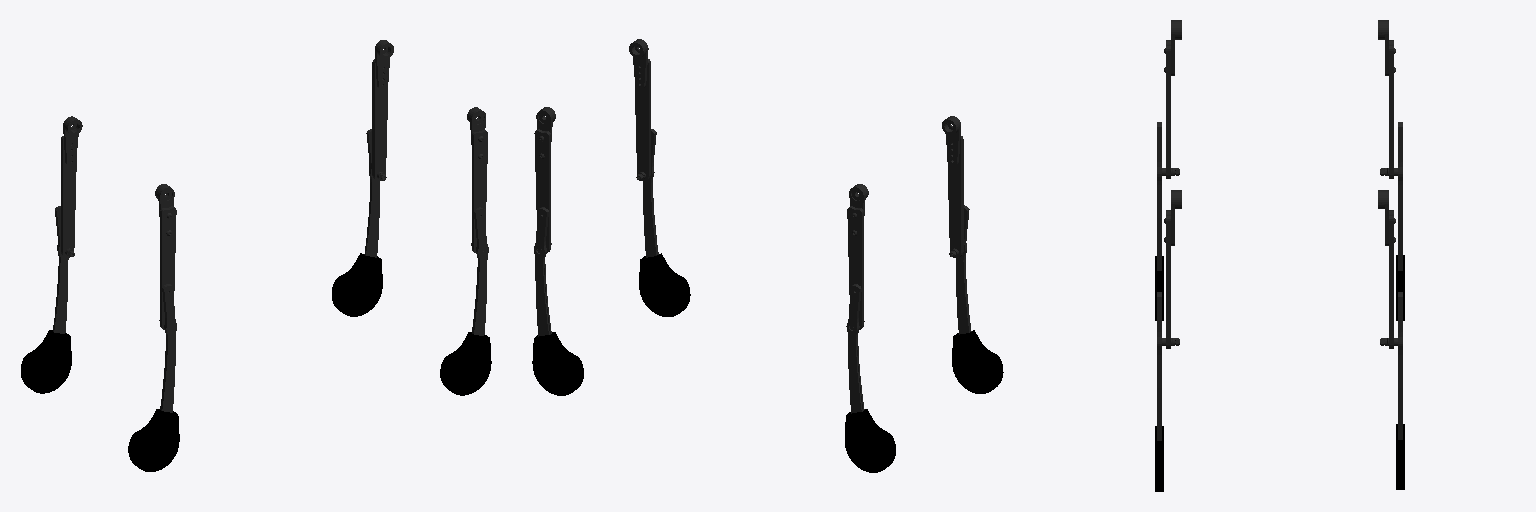
--- Render facts (derived) ---
3 views of the same robot in one strip: view 1: azimuth 30°, elevation 25°; view 2: azimuth 150°, elevation 25°; view 3: azimuth 270°, elevation 25° (orthographic).
Robot: witdog — 19 links, 18 joints (12 revolute, 6 fixed); root link base_link; default pose: all joints at 0.
Visible links, largest first — view 1: lf_foot, rf_foot, rh_foot, lh_foot, lf_2, lh_2, rh_2, rf_2, rh_3, rf_3, lh_3, lf_3; view 2: rf_foot, lf_foot, lh_foot, rh_foot, rh_2, rf_2, lh_2, lf_2, lf_3, lh_3, rf_3, rh_3; view 3: lh_2, rh_2, lf_2, rf_2, rf_3, lh_3, rh_3, lf_3.
Link boxes in pixels (x1,y1,x2,y2): lf_foot: [332, 253, 382, 316]; rf_foot: [440, 332, 491, 395]; rh_foot: [128, 409, 179, 471]; lh_foot: [21, 330, 71, 393]; lf_2: [372, 40, 393, 180]; lh_2: [61, 116, 82, 257]; rh_2: [155, 184, 176, 329]; rf_2: [467, 107, 487, 253]; rh_3: [160, 284, 176, 412]; rf_3: [472, 207, 488, 335]; lh_3: [53, 206, 68, 333]; lf_3: [364, 129, 379, 257]; rf_foot: [639, 253, 690, 316]; lf_foot: [532, 332, 583, 395]; lh_foot: [845, 409, 895, 472]; rh_foot: [952, 330, 1003, 393]; rh_2: [942, 116, 963, 257]; rf_2: [629, 39, 650, 180]; lh_2: [847, 184, 868, 329]; lf_2: [534, 107, 555, 253]; lf_3: [534, 207, 551, 336]; lh_3: [846, 284, 864, 413]; rf_3: [643, 129, 658, 257]; rh_3: [956, 205, 971, 334]; lh_2: [1378, 20, 1397, 178]; rh_2: [1162, 20, 1181, 178]; lf_2: [1378, 190, 1397, 348]; rf_2: [1162, 190, 1181, 348]; rf_3: [1157, 292, 1161, 440]; lh_3: [1398, 122, 1402, 270]; rh_3: [1157, 122, 1161, 270]; lf_3: [1398, 292, 1402, 439].
Size in the robot's own frame: 0.1961 by 0.1048 by 0.1424 metres.
Meshes: 17 distinct files referenced, 12 mesh visuals loaded (12 binary STL); not drawn: 5 (reference not matched to a file when rendering).

The robot description file, URDF, robot "witdog":
<?xml version="1.0" encoding="utf-8"?>
<!-- =================================================================================== -->
<!-- |    This document was autogenerated by xacro from witdog.xacro                   | -->
<!-- |    EDITING THIS FILE BY HAND IS NOT RECOMMENDED                                 | -->
<!-- =================================================================================== -->
<robot name="witdog">
  <material name="black">
    <color rgba="0.0 0.0 0.0 1.0"/>
  </material>
  <material name="blue">
    <color rgba="0.0 0.0 0.8 1.0"/>
  </material>
  <material name="green">
    <color rgba="0.0 0.8 0.0 1.0"/>
  </material>
  <material name="grey">
    <color rgba="0.2 0.2 0.2 1.0"/>
  </material>
  <material name="silver">
    <color rgba="0.9137254901960784 0.9137254901960784 0.8470588235294118 1.0"/>
  </material>
  <material name="orange">
    <color rgba="1.0 0.4235294117647059 0.0392156862745098 1.0"/>
  </material>
  <material name="brown">
    <color rgba="0.8705882352941177 0.8117647058823529 0.7647058823529411 1.0"/>
  </material>
  <material name="red">
    <color rgba="0.8 0.0 0.0 1.0"/>
  </material>
  <material name="white">
    <color rgba="1.0 1.0 1.0 1.0"/>
  </material>
  <link name="base_link">
    <visual>
      <origin rpy="0 0 0" xyz="0 0 0"/>
      <geometry>
        <mesh filename="package://witdog_description/meshes/base_link.STL"/>
      </geometry>
      <material name="black"/>
    </visual>
    <collision>
      <origin rpy="0 0 0" xyz="0 0 0"/>
      <geometry>
        <mesh filename="package://witdog_description/meshes/base_link.STL"/>
      </geometry>
    </collision>
  </link>
  <link name="inertia_link">
    <inertial>
      <origin rpy="0 0 0" xyz="0.0064015 0.0001745 -0.0022995"/>
      <mass value="0.6"/>
      <inertia ixx="0.00013785" ixy="-5.3961E-10" ixz="6.5926E-07" iyy="0.00075341" iyz="-4.7116E-09" izz="0.00085245"/>
    </inertial>
  </link>
  <joint name="to_inertia" type="fixed">
    <parent link="base_link"/>
    <child link="inertia_link"/>
    <origin rpy="0 0 0" xyz="0 0 0"/>
  </joint>
  <link name="lf_1">
    <inertial>
      <origin rpy="0 0 0" xyz="2.62515944628658E-05 0.0150369804172996 9.51730990358252E-06"/>
      <mass value="0.3"/>
      <inertia ixx="0.000485416666667" ixy="0.0" ixz="0.0" iyy="0.000613416666667" iyz="0.0" izz="0.000394666666667"/>
    </inertial>
    <visual>
      <origin rpy="0 0 0" xyz="0 0 0"/>
      <geometry>
        <mesh filename="package://witdog_description/meshes/lf_1.STL"/>
      </geometry>
      <material name="grey"/>
    </visual>
    <collision>
      <origin rpy="0 0 0" xyz="0 0 0"/>
      <geometry>
        <mesh filename="package://witdog_description/meshes/lf_1.STL"/>
      </geometry>
    </collision>
  </link>
  <joint name="to_lf1" type="revolute">
    <origin rpy="0 0 0" xyz="0.08652 0.028001 -0.005647"/>
    <parent link="base_link"/>
    <child link="lf_1"/>
    <axis xyz="1 0 0"/>
    <limit effort="5" lower="-3.14" upper="3.14" velocity="1.5"/>
  </joint>
  <link name="lf_2">
    <inertial>
      <origin rpy="0 0 0" xyz="-0.000216886891406632 0.00185556616401127 -0.0157060881233216"/>
      <mass value="0.13"/>
      <inertia ixx="0.0003873984375" ixy="0.0" ixz="0.0" iyy="0.000404065104167" iyz="0.0" izz="3.54166666667e-05"/>
    </inertial>
    <visual>
      <origin rpy="0 0 0" xyz="0 0 0"/>
      <geometry>
        <mesh filename="package://witdog_description/meshes/lf_2.STL"/>
      </geometry>
      <material name="grey"/>
    </visual>
    <collision>
      <origin rpy="0 0 0" xyz="0 0 0"/>
      <geometry>
        <mesh filename="package://witdog_description/meshes/lf_2.STL"/>
      </geometry>
    </collision>
  </link>
  <joint name="to_lf2" type="revolute">
    <origin rpy="0 0 0" xyz="-0.0057834 0.014959 0.00061935"/>
    <parent link="lf_1"/>
    <child link="lf_2"/>
    <axis xyz="0 1 0"/>
    <limit effort="5" lower="-3.14" upper="3.14" velocity="1.5"/>
  </joint>
  <link name="lf_3">
    <inertial>
      <origin rpy="0 0 0" xyz="-0.00207589878248646 -0.000650514564911272 -0.0275149145142826"/>
      <mass value="0.063"/>
      <inertia ixx="0.000258541666667" ixy="0.0" ixz="0.0" iyy="0.00026934375" iyz="0.0" izz="2.08854166667e-05"/>
    </inertial>
    <visual>
      <origin rpy="0 0 0" xyz="0 0 0"/>
      <geometry>
        <mesh filename="package://witdog_description/meshes/lf_3.STL"/>
      </geometry>
      <material name="grey"/>
    </visual>
    <collision>
      <origin rpy="0 0 0" xyz="0 0 0"/>
      <geometry>
        <mesh filename="package://witdog_description/meshes/lf_3.STL"/>
      </geometry>
    </collision>
  </link>
  <joint name="to_lf3" type="revolute">
    <origin rpy="0 0 0" xyz="-0.00091985 0.0079405 -0.066613"/>
    <parent link="lf_2"/>
    <child link="lf_3"/>
    <axis xyz="0 1 0"/>
    <limit effort="5" lower="-3.14" upper="3.14" velocity="1.5"/>
  </joint>
  <link name="lf_foot">
    <inertial>
      <origin rpy="0 0 0" xyz="0.000733010852343454 -0.00200000000000003 0.000667379574654542"/>
      <mass value="0.063"/>
      <inertia ixx="9.6355662245681E-08" ixy="-9.37574254460232E-23" ixz="-1.49911815454567E-08" iyy="1.84243192364973E-07" iyz="-6.25861926332428E-23" izz="9.362840682092E-08"/>
    </inertial>
    <visual>
      <origin rpy="0 0 0" xyz="0 0 0"/>
      <geometry>
        <mesh filename="package://witdog_description/meshes/lf_foot.STL"/>
      </geometry>
      <material name="black"/>
    </visual>
    <collision>
      <origin rpy="0 0 0" xyz="0 0 0"/>
      <geometry>
        <mesh filename="package://witdog_description/meshes/lf_foot.STL"/>
      </geometry>
    </collision>
  </link>
  <joint name="to_lffoot" type="fixed">
    <origin rpy="0 0 0" xyz="-0.0098189 0.0015 -0.059121"/>
    <parent link="lf_3"/>
    <child link="lf_foot"/>
    <axis xyz="0 0 0"/>
  </joint>
  <transmission name="to_lf1_trans">
    <type>transmission_interface/SimpleTransmission</type>
    <joint name="to_lf1">
      <hardwareInterface>hardware_interface/EffortJointInterface</hardwareInterface>
    </joint>
    <actuator name="to_lf1_motor">
      <hardwareInterface>hardware_interface/EffortJointInterface</hardwareInterface>
      <mechanicalReduction>1</mechanicalReduction>
    </actuator>
  </transmission>
  <transmission name="to_lf2_trans">
    <type>transmission_interface/SimpleTransmission</type>
    <joint name="to_lf2">
      <hardwareInterface>hardware_interface/EffortJointInterface</hardwareInterface>
    </joint>
    <actuator name="to_lf2_motor">
      <hardwareInterface>hardware_interface/EffortJointInterface</hardwareInterface>
      <mechanicalReduction>1</mechanicalReduction>
    </actuator>
  </transmission>
  <transmission name="to_lf3_trans">
    <type>transmission_interface/SimpleTransmission</type>
    <joint name="to_lf3">
      <hardwareInterface>hardware_interface/EffortJointInterface</hardwareInterface>
    </joint>
    <actuator name="to_lf3_motor">
      <hardwareInterface>hardware_interface/EffortJointInterface</hardwareInterface>
      <mechanicalReduction>1</mechanicalReduction>
    </actuator>
  </transmission>
  <link name="rf_1">
    <inertial>
      <origin rpy="0 0 0" xyz="-2.3349E-05 -0.014987 5.2286E-06"/>
      <mass value="0.3"/>
      <inertia ixx="0.000485416666667" ixy="0.0" ixz="0.0" iyy="0.000613416666667" iyz="0.0" izz="0.000394666666667"/>
    </inertial>
    <visual>
      <origin rpy="0 0 0" xyz="0 0 0"/>
      <geometry>
        <mesh filename="package://witdog_description/meshes/rf_1.STL"/>
      </geometry>
      <material name="grey"/>
    </visual>
    <collision>
      <origin rpy="0 0 0" xyz="0 0 0"/>
      <geometry>
        <mesh filename="package://witdog_description/meshes/rf_1.STL"/>
      </geometry>
    </collision>
  </link>
  <joint name="to_rf1" type="revolute">
    <origin rpy="0 0 0" xyz="0.08652 -0.028 -0.005647"/>
    <parent link="base_link"/>
    <child link="rf_1"/>
    <axis xyz="1 0 0"/>
    <limit effort="5" lower="-3.14" upper="3.14" velocity="1.5"/>
  </joint>
  <link name="rf_2">
    <inertial>
      <origin rpy="0 0 0" xyz="-0.000216884414840048 -0.0018570506821472 -0.0157060845364545"/>
      <mass value="0.13"/>
      <inertia ixx="0.0003873984375" ixy="0.0" ixz="0.0" iyy="0.000404065104167" iyz="0.0" izz="3.54166666667e-05"/>
    </inertial>
    <visual>
      <origin rpy="0 0 0" xyz="0 0 0"/>
      <geometry>
        <mesh filename="package://witdog_description/meshes/rf_2.STL"/>
      </geometry>
      <material name="grey"/>
    </visual>
    <collision>
      <origin rpy="0 0 0" xyz="0 0 0"/>
      <geometry>
        <mesh filename="package://witdog_description/meshes/rf_2.STL"/>
      </geometry>
    </collision>
  </link>
  <joint name="to_rf2" type="revolute">
    <origin rpy="0 0 0" xyz="-0.0057834 -0.014959 0.00061935"/>
    <parent link="rf_1"/>
    <child link="rf_2"/>
    <axis xyz="0 1 0"/>
    <limit effort="5" lower="-3.14" upper="3.14" velocity="1.5"/>
  </joint>
  <link name="rf_3">
    <inertial>
      <origin rpy="0 0 0" xyz="-0.00216416743732465 0.000904314415320434 -0.0285792043747879"/>
      <mass value="0.063"/>
      <inertia ixx="0.000258541666667" ixy="0.0" ixz="0.0" iyy="0.00026934375" iyz="0.0" izz="2.08854166667e-05"/>
    </inertial>
    <visual>
      <origin rpy="0 0 0" xyz="0 0 0"/>
      <geometry>
        <mesh filename="package://witdog_description/meshes/rf_3.STL"/>
      </geometry>
      <material name="grey"/>
    </visual>
    <collision>
      <origin rpy="0 0 0" xyz="0 0 0"/>
      <geometry>
        <mesh filename="package://witdog_description/meshes/rf_3.STL"/>
      </geometry>
    </collision>
  </link>
  <joint name="to_rf3" type="revolute">
    <origin rpy="0 0 0" xyz="-0.000919872443398681 -0.00834054054053998 -0.0666128977412097"/>
    <parent link="rf_2"/>
    <child link="rf_3"/>
    <axis xyz="0 1 0"/>
    <limit effort="5" lower="-3.14" upper="3.14" velocity="1.5"/>
  </joint>
  <link name="rf_foot">
    <inertial>
      <origin rpy="0 0 0" xyz="0.000733010852419357 0.002 0.000667379574624372"/>
      <mass value="0.063"/>
      <inertia ixx="9.6355662245681E-08" ixy="6.61616672491364E-23" ixz="-1.49911815454568E-08" iyy="1.84243192364973E-07" iyz="1.65831138249206E-22" izz="9.36284068209202E-08"/>
    </inertial>
    <visual>
      <origin rpy="0 0 0" xyz="0 0 0"/>
      <geometry>
        <mesh filename="package://witdog_description/meshes/rf_foot.STL"/>
      </geometry>
      <material name="black"/>
    </visual>
    <collision>
      <origin rpy="0 0 0" xyz="0 0 0"/>
      <geometry>
        <mesh filename="package://witdog_description/meshes/rf_foot.STL"/>
      </geometry>
    </collision>
  </link>
  <joint name="to_rffoot" type="fixed">
    <origin rpy="0 0 0" xyz="-0.0091444 -0.0010914 -0.05939"/>
    <parent link="rf_3"/>
    <child link="rf_foot"/>
    <axis xyz="0 0 0"/>
  </joint>
  <transmission name="to_rf1_trans">
    <type>transmission_interface/SimpleTransmission</type>
    <joint name="to_rf1">
      <hardwareInterface>hardware_interface/EffortJointInterface</hardwareInterface>
    </joint>
    <actuator name="to_rf1_motor">
      <hardwareInterface>hardware_interface/EffortJointInterface</hardwareInterface>
      <mechanicalReduction>1</mechanicalReduction>
    </actuator>
  </transmission>
  <transmission name="to_rf2_trans">
    <type>transmission_interface/SimpleTransmission</type>
    <joint name="to_rf2">
      <hardwareInterface>hardware_interface/EffortJointInterface</hardwareInterface>
    </joint>
    <actuator name="to_rf2_motor">
      <hardwareInterface>hardware_interface/EffortJointInterface</hardwareInterface>
      <mechanicalReduction>1</mechanicalReduction>
    </actuator>
  </transmission>
  <transmission name="to_rf3_trans">
    <type>transmission_interface/SimpleTransmission</type>
    <joint name="to_rf3">
      <hardwareInterface>hardware_interface/EffortJointInterface</hardwareInterface>
    </joint>
    <actuator name="to_rf3_motor">
      <hardwareInterface>hardware_interface/EffortJointInterface</hardwareInterface>
      <mechanicalReduction>1</mechanicalReduction>
    </actuator>
  </transmission>
  <link name="lh_1">
    <inertial>
      <origin rpy="0 0 0" xyz="-6.03000272297871E-06 0.015008835867718 9.49343399942945E-06"/>
      <mass value="0.3"/>
      <inertia ixx="0.000485416666667" ixy="0.0" ixz="0.0" iyy="0.000613416666667" iyz="0.0" izz="0.000394666666667"/>
    </inertial>
    <visual>
      <origin rpy="0 0 0" xyz="0 0 0"/>
      <geometry>
        <mesh filename="package://witdog_description/meshes/lh_1.STL"/>
      </geometry>
      <material name="grey"/>
    </visual>
    <collision>
      <origin rpy="0 0 0" xyz="0 0 0"/>
      <geometry>
        <mesh filename="package://witdog_description/meshes/lh_1.STL"/>
      </geometry>
    </collision>
  </link>
  <joint name="to_lh1" type="revolute">
    <origin rpy="0 0 0" xyz="-0.08248 0.028001 -0.005937"/>
    <parent link="base_link"/>
    <child link="lh_1"/>
    <axis xyz="1 0 0"/>
    <limit effort="5" lower="-3.14" upper="3.14" velocity="1.5"/>
  </joint>
  <link name="lh_2">
    <inertial>
      <origin rpy="0 0 0" xyz="-0.000216886891503815 0.00185556616399846 -0.0157060881233222"/>
      <mass value="0.13"/>
      <inertia ixx="0.0003873984375" ixy="0.0" ixz="0.0" iyy="0.000404065104167" iyz="0.0" izz="3.54166666667e-05"/>
    </inertial>
    <visual>
      <origin rpy="0 0 0" xyz="0 0 0"/>
      <geometry>
        <mesh filename="package://witdog_description/meshes/lh_2.STL"/>
      </geometry>
      <material name="grey"/>
    </visual>
    <collision>
      <origin rpy="0 0 0" xyz="0 0 0"/>
      <geometry>
        <mesh filename="package://witdog_description/meshes/lh_2.STL"/>
      </geometry>
    </collision>
  </link>
  <joint name="to_lh2" type="revolute">
    <origin rpy="0 0 0" xyz="-0.00578344744545112 0.0149594594594723 0.000619354785077068"/>
    <parent link="lh_1"/>
    <child link="lh_2"/>
    <axis xyz="0 1 0"/>
    <limit effort="5" lower="-3.14" upper="3.14" velocity="1.5"/>
  </joint>
  <link name="lh_3">
    <inertial>
      <origin rpy="0 0 0" xyz="-0.00207589878256928 -0.000650514564957339 -0.0275149145142762"/>
      <mass value="0.063"/>
      <inertia ixx="0.000258541666667" ixy="0.0" ixz="0.0" iyy="0.00026934375" iyz="0.0" izz="2.08854166667e-05"/>
    </inertial>
    <visual>
      <origin rpy="0 0 0" xyz="0 0 0"/>
      <geometry>
        <mesh filename="package://witdog_description/meshes/lh_3.STL"/>
      </geometry>
      <material name="grey"/>
    </visual>
    <collision>
      <origin rpy="0 0 0" xyz="0 0 0"/>
      <geometry>
        <mesh filename="package://witdog_description/meshes/lh_3.STL"/>
      </geometry>
    </collision>
  </link>
  <joint name="to_lh3" type="revolute">
    <origin rpy="0 0 0" xyz="-0.000919847336912388 0.00794054054057377 -0.0666130631353466"/>
    <parent link="lh_2"/>
    <child link="lh_3"/>
    <axis xyz="0 1 0"/>
    <limit effort="5" lower="-3.14" upper="3.14" velocity="1.5"/>
  </joint>
  <link name="lh_foot">
    <inertial>
      <origin rpy="0 0 0" xyz="0.000733010852452171 -0.002 0.000667379574611299"/>
      <mass value="0.063"/>
      <inertia ixx="9.63556622456806E-08" ixy="1.61006081338392E-23" ixz="-1.49911815454567E-08" iyy="1.84243192364972E-07" iyz="-7.24514755910098E-23" izz="9.36284068209199E-08"/>
    </inertial>
    <visual>
      <origin rpy="0 0 0" xyz="0 0 0"/>
      <geometry>
        <mesh filename="package://witdog_description/meshes/lh_foot.STL"/>
      </geometry>
      <material name="black"/>
    </visual>
    <collision>
      <origin rpy="0 0 0" xyz="0 0 0"/>
      <geometry>
        <mesh filename="package://witdog_description/meshes/lh_foot.STL"/>
      </geometry>
    </collision>
  </link>
  <joint name="to_lhfoot" type="fixed">
    <origin rpy="0 0 0" xyz="-0.0094743 0.0015 -0.059258"/>
    <parent link="lh_3"/>
    <child link="lh_foot"/>
    <axis xyz="0 0 0"/>
  </joint>
  <transmission name="to_lh1_trans">
    <type>transmission_interface/SimpleTransmission</type>
    <joint name="to_lh1">
      <hardwareInterface>hardware_interface/EffortJointInterface</hardwareInterface>
    </joint>
    <actuator name="to_lh1_motor">
      <hardwareInterface>hardware_interface/EffortJointInterface</hardwareInterface>
      <mechanicalReduction>1</mechanicalReduction>
    </actuator>
  </transmission>
  <transmission name="to_lh2_trans">
    <type>transmission_interface/SimpleTransmission</type>
    <joint name="to_lh2">
      <hardwareInterface>hardware_interface/EffortJointInterface</hardwareInterface>
    </joint>
    <actuator name="to_lh2_motor">
      <hardwareInterface>hardware_interface/EffortJointInterface</hardwareInterface>
      <mechanicalReduction>1</mechanicalReduction>
    </actuator>
  </transmission>
  <transmission name="to_lh3_trans">
    <type>transmission_interface/SimpleTransmission</type>
    <joint name="to_lh3">
      <hardwareInterface>hardware_interface/EffortJointInterface</hardwareInterface>
    </joint>
    <actuator name="to_lh3_motor">
      <hardwareInterface>hardware_interface/EffortJointInterface</hardwareInterface>
      <mechanicalReduction>1</mechanicalReduction>
    </actuator>
  </transmission>
  <link name="rh_1">
    <inertial>
      <origin rpy="0 0 0" xyz="4.74891857588089E-07 -0.0150062500764912 4.58882703502361E-08"/>
      <mass value="0.3"/>
      <inertia ixx="0.000485416666667" ixy="0.0" ixz="0.0" iyy="0.000613416666667" iyz="0.0" izz="0.000394666666667"/>
    </inertial>
    <visual>
      <origin rpy="0 0 0" xyz="0 0 0"/>
      <geometry>
        <mesh filename="package://witdog_description/meshes/rh_1.STL"/>
      </geometry>
      <material name="grey"/>
    </visual>
    <collision>
      <origin rpy="0 0 0" xyz="0 0 0"/>
      <geometry>
        <mesh filename="package://witdog_description/meshes/rh_1.STL"/>
      </geometry>
    </collision>
  </link>
  <joint name="to_rh1" type="revolute">
    <origin rpy="0 0 0" xyz="-0.08248 -0.028 -0.005937"/>
    <parent link="base_link"/>
    <child link="rh_1"/>
    <axis xyz="1 0 0"/>
    <limit effort="5" lower="-3.14" upper="3.14" velocity="1.5"/>
  </joint>
  <link name="rh_2">
    <inertial>
      <origin rpy="0 0 0" xyz="-0.000216884414840024 -0.00185705068214734 -0.0157060845364545"/>
      <mass value="0.13"/>
      <inertia ixx="0.0003873984375" ixy="0.0" ixz="0.0" iyy="0.000404065104167" iyz="0.0" izz="3.54166666667e-05"/>
    </inertial>
    <visual>
      <origin rpy="0 0 0" xyz="0 0 0"/>
      <geometry>
        <mesh filename="package://witdog_description/meshes/rh_2.STL"/>
      </geometry>
      <material name="grey"/>
    </visual>
    <collision>
      <origin rpy="0 0 0" xyz="0 0 0"/>
      <geometry>
        <mesh filename="package://witdog_description/meshes/rh_2.STL"/>
      </geometry>
    </collision>
  </link>
  <joint name="to_rh2" type="revolute">
    <origin rpy="0 0 0" xyz="-0.00578344744554893 -0.0149594594594607 0.000619354785075757"/>
    <parent link="rh_1"/>
    <child link="rh_2"/>
    <axis xyz="0 1 0"/>
    <limit effort="5" lower="-3.14" upper="3.14" velocity="1.5"/>
  </joint>
  <link name="rh_3">
    <inertial>
      <origin rpy="0 0 0" xyz="-0.00216416743732464 0.000904314415320323 -0.0285792043747879"/>
      <mass value="0.063"/>
      <inertia ixx="0.000258541666667" ixy="0.0" ixz="0.0" iyy="0.00026934375" iyz="0.0" izz="2.08854166667e-05"/>
    </inertial>
    <visual>
      <origin rpy="0 0 0" xyz="0 0 0"/>
      <geometry>
        <mesh filename="package://witdog_description/meshes/rh_3.STL"/>
      </geometry>
      <material name="grey"/>
    </visual>
    <collision>
      <origin rpy="0 0 0" xyz="0 0 0"/>
      <geometry>
        <mesh filename="package://witdog_description/meshes/rh_3.STL"/>
      </geometry>
    </collision>
  </link>
  <joint name="to_rh3" type="revolute">
    <origin rpy="0 0 0" xyz="-0.000919872443398723 -0.00834054054054026 -0.0666128977412097"/>
    <parent link="rh_2"/>
    <child link="rh_3"/>
    <axis xyz="0 1 0"/>
    <limit effort="5" lower="-3.14" upper="3.14" velocity="1.5"/>
  </joint>
  <link name="rh_foot">
    <inertial>
      <origin rpy="0 0 0" xyz="0.000733010852420668 0.002 0.0006673795746239"/>
      <mass value="0.063"/>
      <inertia ixx="9.6355662245681E-08" ixy="1.0026239024509E-22" ixz="-1.49911815454567E-08" iyy="1.84243192364973E-07" iyz="1.52192774825146E-22" izz="9.36284068209202E-08"/>
    </inertial>
    <visual>
      <origin rpy="0 0 0" xyz="0 0 0"/>
      <geometry>
        <mesh filename="package://witdog_description/meshes/rh_foot.STL"/>
      </geometry>
      <material name="black"/>
    </visual>
    <collision>
      <origin rpy="0 0 0" xyz="0 0 0"/>
      <geometry>
        <mesh filename="package://witdog_description/meshes/rh_foot.STL"/>
      </geometry>
    </collision>
  </link>
  <joint name="to_rhfoot" type="fixed">
    <origin rpy="0 0 0" xyz="-0.0092382 -0.0010914 -0.059352"/>
    <parent link="rh_3"/>
    <child link="rh_foot"/>
    <axis xyz="0 0 0"/>
  </joint>
  <transmission name="to_rh1_trans">
    <type>transmission_interface/SimpleTransmission</type>
    <joint name="to_rh1">
      <hardwareInterface>hardware_interface/EffortJointInterface</hardwareInterface>
    </joint>
    <actuator name="to_rh1_motor">
      <hardwareInterface>hardware_interface/EffortJointInterface</hardwareInterface>
      <mechanicalReduction>1</mechanicalReduction>
    </actuator>
  </transmission>
  <transmission name="to_rh2_trans">
    <type>transmission_interface/SimpleTransmission</type>
    <joint name="to_rh2">
      <hardwareInterface>hardware_interface/EffortJointInterface</hardwareInterface>
    </joint>
    <actuator name="to_rh2_motor">
      <hardwareInterface>hardware_interface/EffortJointInterface</hardwareInterface>
      <mechanicalReduction>1</mechanicalReduction>
    </actuator>
  </transmission>
  <transmission name="to_rh3_trans">
    <type>transmission_interface/SimpleTransmission</type>
    <joint name="to_rh3">
      <hardwareInterface>hardware_interface/EffortJointInterface</hardwareInterface>
    </joint>
    <actuator name="to_rh3_motor">
      <hardwareInterface>hardware_interface/EffortJointInterface</hardwareInterface>
      <mechanicalReduction>1</mechanicalReduction>
    </actuator>
  </transmission>


  <gazebo reference="base_link">
    <material>Gazebo/FlatBlack</material>
  </gazebo>
  <gazebo reference="lf_1">
    <kp>1000000.0</kp>
    <kd>1.0</kd>
    <mu1>0.8</mu1>
    <mu2>0.8</mu2>
    <maxVel>0.0</maxVel>
    <minDepth>0.001</minDepth>
    <material>Gazebo/DarkGrey</material>
  </gazebo>
  <gazebo reference="lf_2">
    <kp>1000000.0</kp>
    <kd>1.0</kd>
    <mu1>0.8</mu1>
    <mu2>0.8</mu2>
    <maxVel>0.0</maxVel>
    <minDepth>0.001</minDepth>
    <material>Gazebo/DarkGrey</material>
  </gazebo>
  <gazebo reference="lf_3">
    <kp>1000000.0</kp>
    <kd>1.0</kd>
    <mu1>0.8</mu1>
    <mu2>0.8</mu2>
    <maxVel>0.0</maxVel>
    <minDepth>0.001</minDepth>
    <material>Gazebo/DarkGrey</material>
  </gazebo>
  <gazebo reference="lf_foot">
    <kp>1000000.0</kp>
    <kd>1.0</kd>
    <mu1>0.8</mu1>
    <mu2>0.8</mu2>
    <maxVel>0.0</maxVel>
    <minDepth>0.001</minDepth>
    <material>Gazebo/Black</material>
  </gazebo>
  <gazebo reference="rf_1">
    <kp>1000000.0</kp>
    <kd>1.0</kd>
    <mu1>0.8</mu1>
    <mu2>0.8</mu2>
    <maxVel>0.0</maxVel>
    <minDepth>0.001</minDepth>
    <material>Gazebo/DarkGrey</material>
  </gazebo>
  <gazebo reference="rf_2">
    <kp>1000000.0</kp>
    <kd>1.0</kd>
    <mu1>0.8</mu1>
    <mu2>0.8</mu2>
    <maxVel>0.0</maxVel>
    <minDepth>0.001</minDepth>
    <material>Gazebo/DarkGrey</material>
  </gazebo>
  <gazebo reference="rf_3">
    <kp>1000000.0</kp>
    <kd>1.0</kd>
    <mu1>0.8</mu1>
    <mu2>0.8</mu2>
    <maxVel>0.0</maxVel>
    <minDepth>0.001</minDepth>
    <material>Gazebo/DarkGrey</material>
  </gazebo>
  <gazebo reference="rf_foot">
    <kp>1000000.0</kp>
    <kd>1.0</kd>
    <mu1>0.8</mu1>
    <mu2>0.8</mu2>
    <maxVel>0.0</maxVel>
    <minDepth>0.001</minDepth>
    <material>Gazebo/Black</material>
  </gazebo>
  <gazebo reference="lh_1">
    <kp>1000000.0</kp>
    <kd>1.0</kd>
    <mu1>0.8</mu1>
    <mu2>0.8</mu2>
    <maxVel>0.0</maxVel>
    <minDepth>0.001</minDepth>
    <material>Gazebo/DarkGrey</material>
  </gazebo>
  <gazebo reference="lh_2">
    <kp>1000000.0</kp>
    <kd>1.0</kd>
    <mu1>0.8</mu1>
    <mu2>0.8</mu2>
    <maxVel>0.0</maxVel>
    <minDepth>0.001</minDepth>
    <material>Gazebo/DarkGrey</material>
  </gazebo>
  <gazebo reference="lh_3">
    <kp>1000000.0</kp>
    <kd>1.0</kd>
    <mu1>0.8</mu1>
    <mu2>0.8</mu2>
    <maxVel>0.0</maxVel>
    <minDepth>0.001</minDepth>
    <material>Gazebo/DarkGrey</material>
  </gazebo>
  <gazebo reference="lh_foot">
    <kp>1000000.0</kp>
    <kd>1.0</kd>
    <mu1>0.8</mu1>
    <mu2>0.8</mu2>
    <maxVel>0.0</maxVel>
    <minDepth>0.001</minDepth>
    <material>Gazebo/Black</material>
  </gazebo>
  <gazebo reference="rh_1">
    <kp>1000000.0</kp>
    <kd>1.0</kd>
    <mu1>0.8</mu1>
    <mu2>0.8</mu2>
    <maxVel>0.0</maxVel>
    <minDepth>0.001</minDepth>
    <material>Gazebo/DarkGrey</material>
  </gazebo>
  <gazebo reference="rh_2">
    <kp>1000000.0</kp>
    <kd>1.0</kd>
    <mu1>0.8</mu1>
    <mu2>0.8</mu2>
    <maxVel>0.0</maxVel>
    <minDepth>0.001</minDepth>
    <material>Gazebo/DarkGrey</material>
  </gazebo>
  <gazebo reference="rh_3">
    <kp>1000000.0</kp>
    <kd>1.0</kd>
    <mu1>0.8</mu1>
    <mu2>0.8</mu2>
    <maxVel>0.0</maxVel>
    <minDepth>0.001</minDepth>
    <material>Gazebo/DarkGrey</material>
  </gazebo>
  <gazebo reference="rh_foot">
    <kp>1000000.0</kp>
    <kd>1.0</kd>
    <mu1>0.8</mu1>
    <mu2>0.8</mu2>
    <maxVel>0.0</maxVel>
    <minDepth>0.001</minDepth>
    <material>Gazebo/Black</material>
  </gazebo>  

  <gazebo>
    <plugin filename="libgazebo_ros_p3d.so" name="p3d_base_controller">
      <alwaysOn>true</alwaysOn>
      <updateRate>10.0</updateRate>
      <bodyName>base_link</bodyName>
      <topicName>odom/ground_truth</topicName>
      <gaussianNoise>0.01</gaussianNoise>
      <frameName>world</frameName>
      <xyzOffsets>0 0 0</xyzOffsets>
      <rpyOffsets>0 0 0</rpyOffsets>
    </plugin>
  </gazebo>
  <gazebo>
    <plugin filename="libgazebo_ros_control.so" name="gazebo_ros_control">
      <legacyModeNS>true</legacyModeNS>
    </plugin>
  </gazebo>

  <gazebo>
    <plugin filename="libhector_gazebo_ros_imu.so" name="imu_controller">
      <updateRate>50.0</updateRate>
      <bodyName>imu_link</bodyName>
      <topicName>imu/data</topicName>
      <accelDrift>0.005 0.005 0.005</accelDrift>
      <accelGaussianNoise>0.005 0.005 0.005</accelGaussianNoise>
      <rateDrift>0.005 0.005 0.005 </rateDrift>
      <rateGaussianNoise>0.005 0.005 0.005 </rateGaussianNoise>
      <headingDrift>0.005</headingDrift>
      <headingGaussianNoise>0.005</headingGaussianNoise>
    </plugin>
  </gazebo>
  <link name="imu_link">
    <inertial>
      <mass value="0.001"/>
      <origin rpy="0 0 0" xyz="0 0 0"/>
      <inertia ixx="1e-09" ixy="0.0" ixz="0.0" iyy="1e-09" iyz="0.0" izz="1e-09"/>
    </inertial>
  </link>
  <joint name="imu_joint" type="fixed">
    <parent link="base_link"/>
    <child link="imu_link"/>
  </joint>
  
</robot>
